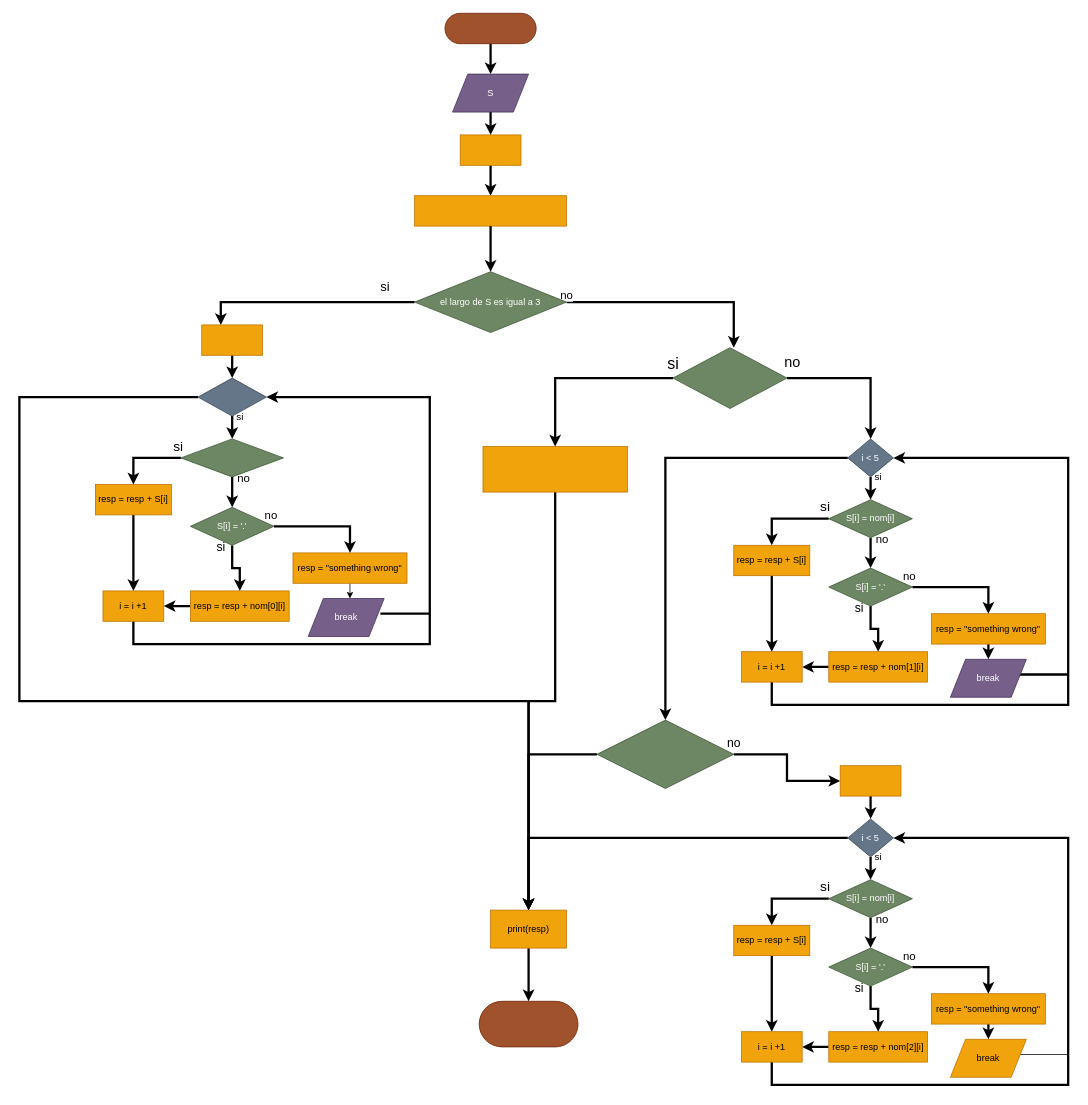
This 1088x1105 diagram has some shape labels left out. Each missing label, with the centre of its shape:
fin: (528,1024)
i < 3: (231,396)
i = 0: (232,339)
if resp = nom[1]: (665,753)
inicio: (490,28)
nom = ["Bob","Alice","Cindy"]: (490,210)
res = "": (870,780)
resp = "CAN'T TELL": (554,469)
resp = [ ]: (490,149)
S = ".....": (729,377)
S[i] = nom[0][i]: (231,457)
